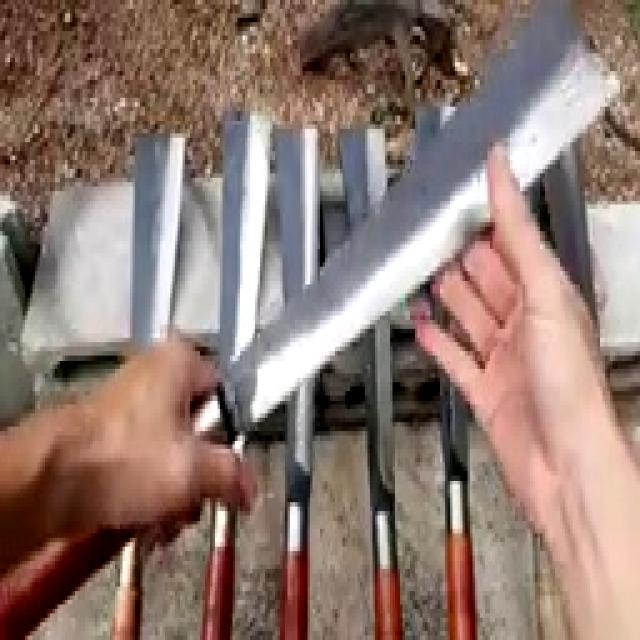eto: (5, 4, 621, 640)
